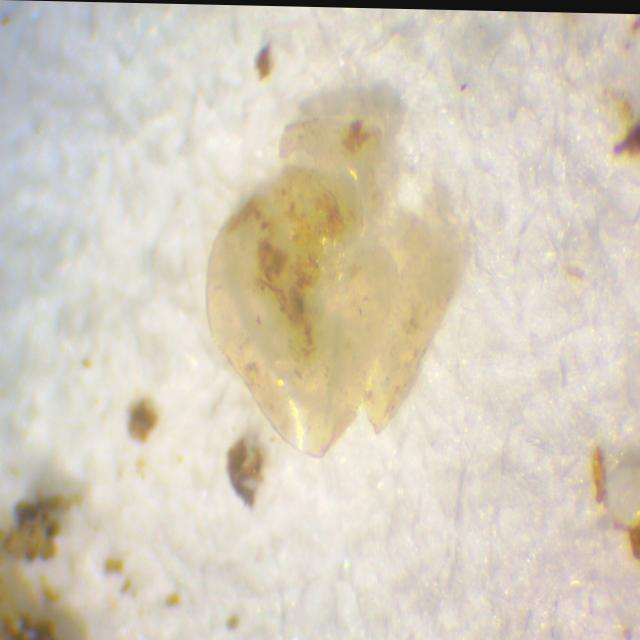microplastic: (201, 126, 460, 456)
